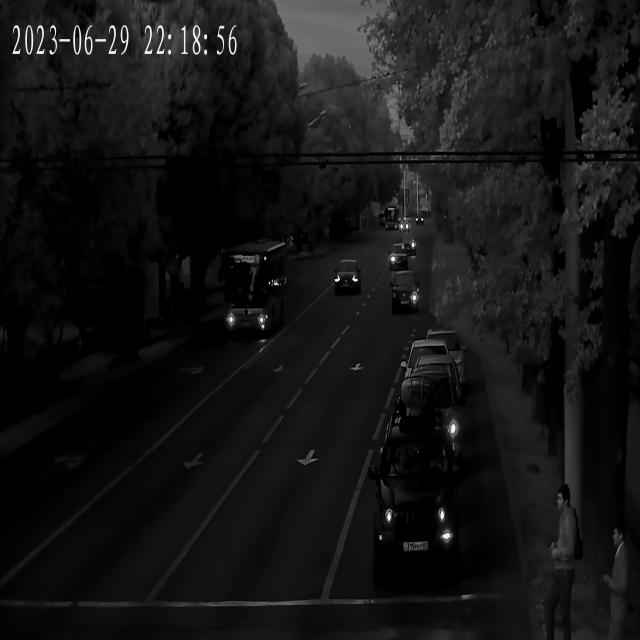Bus: (219, 240, 290, 338)
Car: (384, 370, 464, 472), (401, 352, 462, 410), (420, 330, 466, 376), (390, 273, 422, 315), (332, 260, 366, 298), (383, 246, 410, 274), (399, 235, 418, 254)
